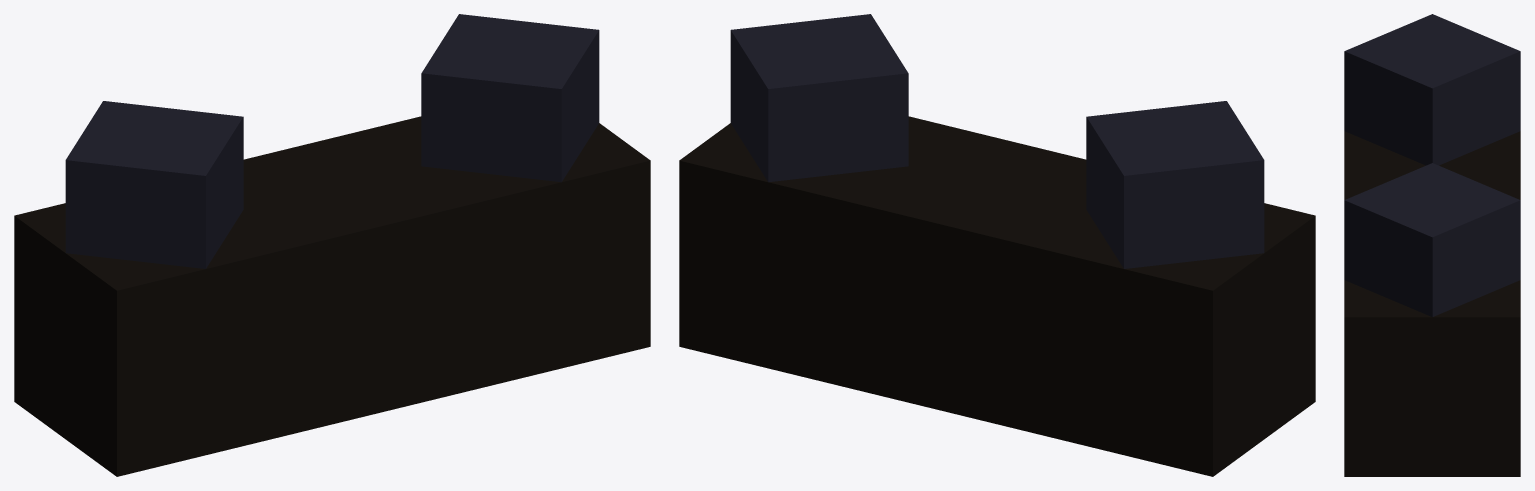
Rendered from shotgun_ammo.obj.
3 renders of one model, left to right at view 1: azimuth 30°, elevation 25°; view 2: azimuth 150°, elevation 25°; view 3: azimuth 270°, elevation 25°, orthographic. The views are drawn at different scales.
Parts seen in each view (by area): view 1: entity0_brush0, entity0_brush1, entity0_brush2; view 2: entity0_brush0, entity0_brush1, entity0_brush2; view 3: entity0_brush0, entity0_brush1, entity0_brush2.
Part boxes in pixels (x1,y1,x2,y2): entity0_brush0: (14,116,650,476); entity0_brush1: (421,14,599,182); entity0_brush2: (65,101,243,268); entity0_brush0: (679,116,1315,476); entity0_brush1: (730,14,908,182); entity0_brush2: (1086,101,1264,268); entity0_brush0: (1344,131,1520,476); entity0_brush1: (1344,163,1520,316); entity0_brush2: (1344,14,1520,165).
Bounding box in the file's own units: 96 × 48 × 32.
2 materials, 2 textured.
